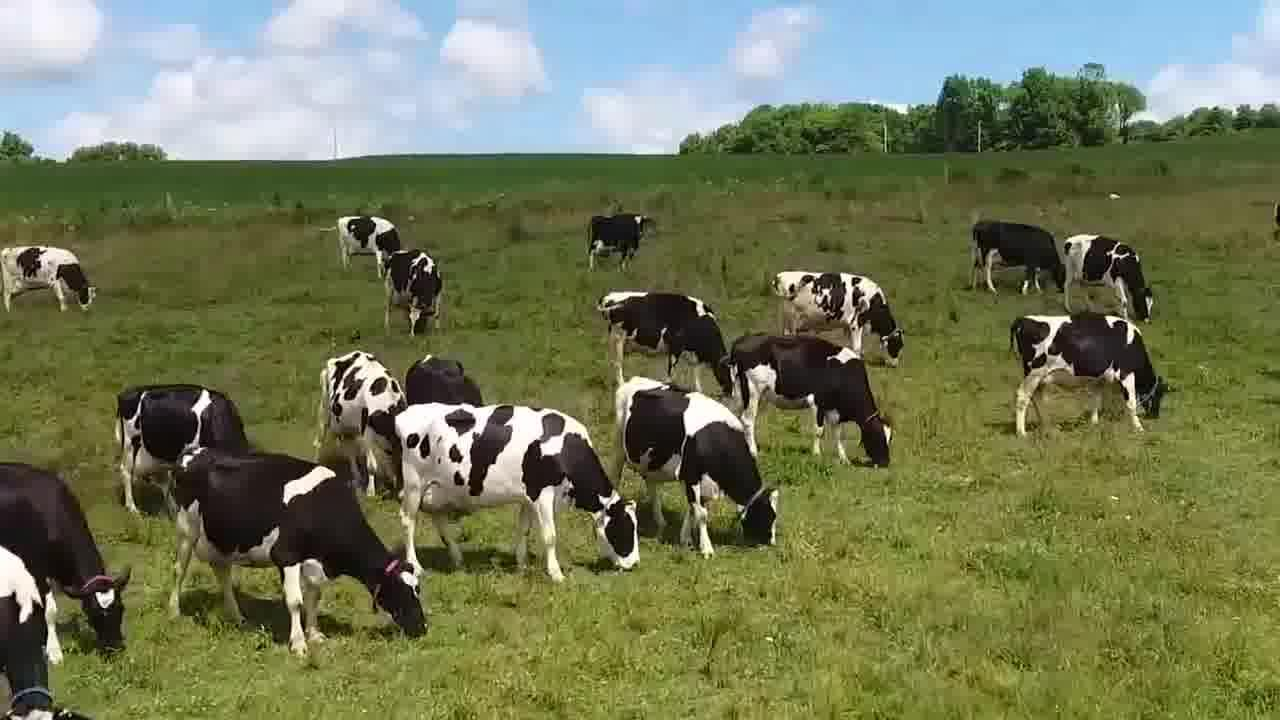cow: (160, 444, 433, 671), (389, 404, 647, 589), (609, 368, 792, 564), (0, 458, 136, 656), (723, 330, 901, 473), (1007, 308, 1174, 440), (109, 383, 255, 518), (592, 283, 741, 396), (769, 267, 907, 368), (311, 348, 410, 488), (1061, 225, 1162, 326), (967, 214, 1070, 301), (0, 240, 100, 319), (381, 247, 450, 343), (397, 343, 489, 408), (581, 208, 654, 276), (329, 214, 406, 271)
